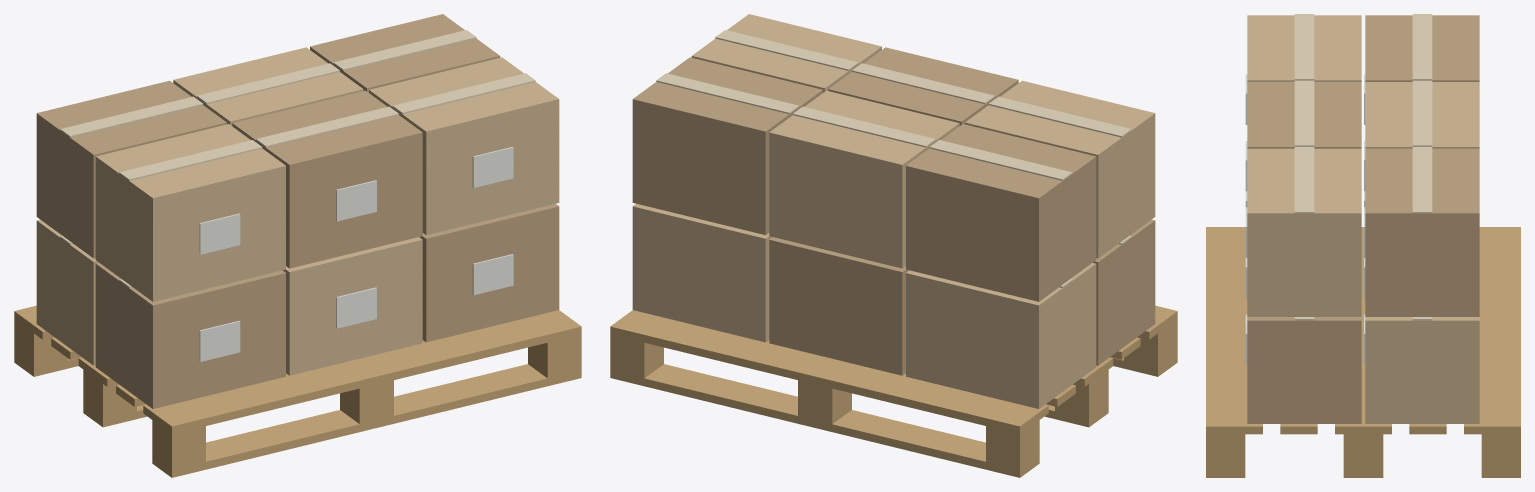
Rendered from pallet-small-boxes.glb.
3 views of the same model, side by side, from view 1: azimuth 30°, elevation 25°; view 2: azimuth 150°, elevation 25°; view 3: azimuth 270°, elevation 25° (orthographic).
Visible parts, largest first — view 1: Prop_PalletSmallBoxes_mesh; view 2: Prop_PalletSmallBoxes_mesh; view 3: Prop_PalletSmallBoxes_mesh.
Part boxes in pixels (<box>): Prop_PalletSmallBoxes_mesh: <box>14,14,581,477</box>; Prop_PalletSmallBoxes_mesh: <box>610,14,1177,477</box>; Prop_PalletSmallBoxes_mesh: <box>1206,14,1520,477</box>.
Bounding box in the file's own units: 1.2 × 0.743 × 0.8.
